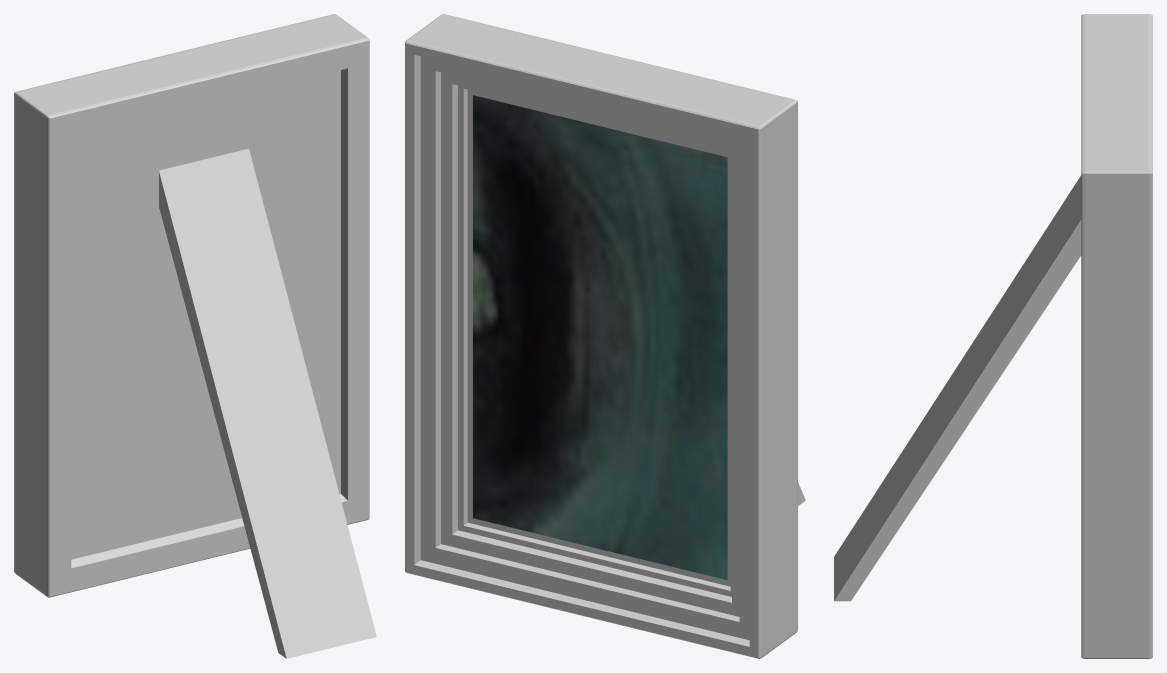
Rendered from cuadro_monja.fbx.
3 renders of one model, left to right at view 1: azimuth 30°, elevation 25°; view 2: azimuth 150°, elevation 25°; view 3: azimuth 270°, elevation 25°, orthographic. The views are drawn at different scales.
Parts seen in each view (by area): view 1: Cuadro de pie; view 2: Cuadro de pie; view 3: Cuadro de pie.
Boxes of the visible parts, x1,y1,x2,y2 form: Cuadro de pie: (14, 14, 376, 658); Cuadro de pie: (405, 14, 805, 658); Cuadro de pie: (834, 14, 1152, 658).
Size of the model in its own units: 21 by 30 by 17.79.
2 materials, 1 textured.
